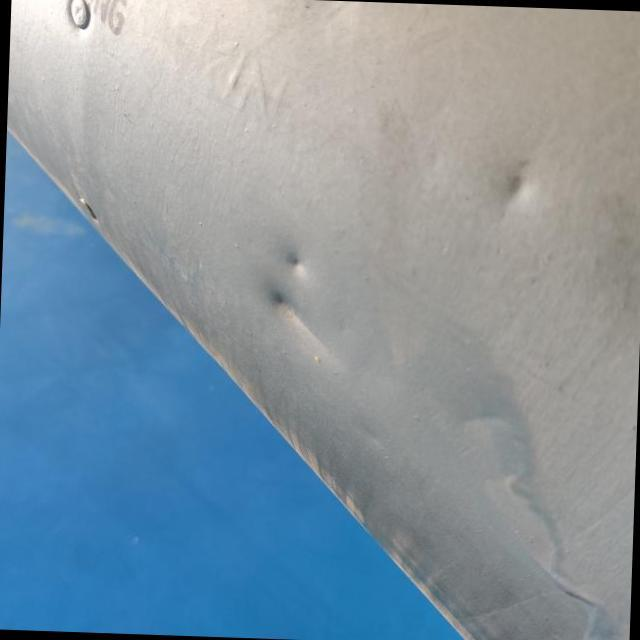Dent: (254, 273, 345, 370), (475, 134, 559, 230), (276, 236, 323, 286)
